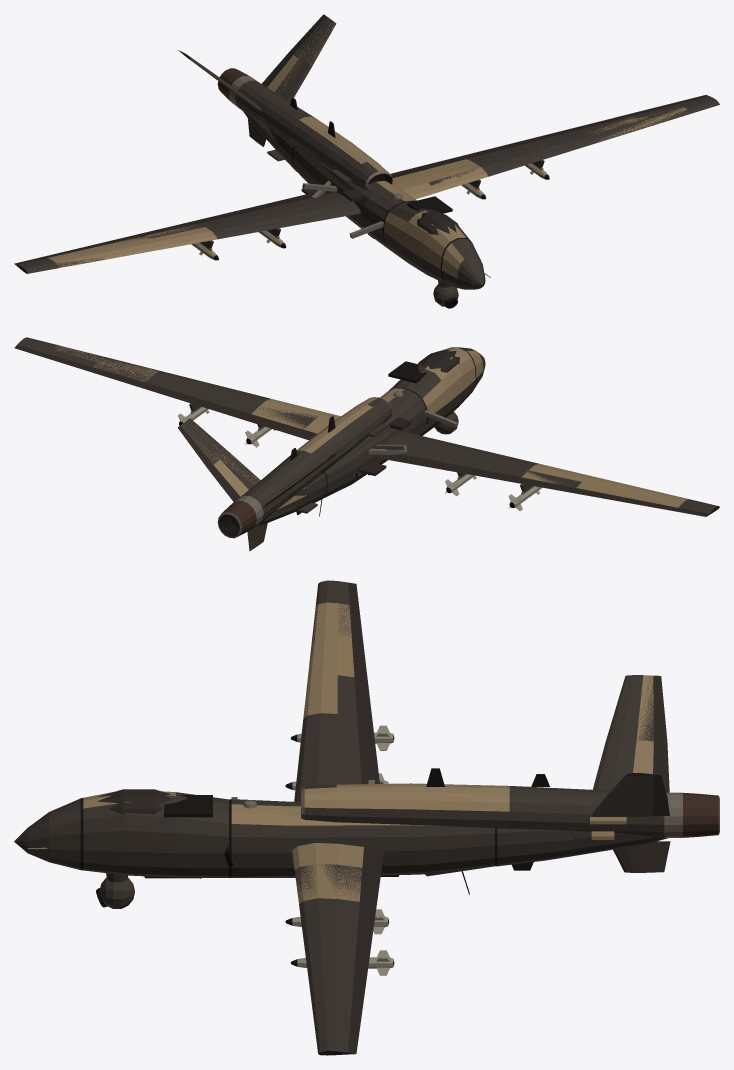
The model's file is dronejet.glb.
3 renders of one model, top to bottom at view 1: azimuth 30°, elevation 25°; view 2: azimuth 150°, elevation 25°; view 3: azimuth 270°, elevation 25°, orthographic. The views are drawn at different scales.
Parts seen in each view (by area): view 1: Jet_Body, P_wingR, P_front, P_wingL, P_tail, P_nose, P_panel3; view 2: Jet_Body, P_wingR, P_front, P_wingL, P_tail, P_nose, P_panel3; view 3: Jet_Body, P_tail, P_nose, P_wingR, P_wingL, P_front, P_rear, P_panel3.
Boxes of the visible parts, x1,y1,x2,y2 form: Jet_Body: (14, 14, 719, 307); P_wingR: (428, 96, 718, 199); P_front: (311, 141, 413, 242); P_wingL: (15, 196, 327, 273); P_tail: (178, 14, 335, 141); P_nose: (382, 215, 459, 308); P_panel3: (407, 196, 452, 213); Jet_Body: (14, 337, 719, 551); P_wingR: (15, 337, 317, 446); P_front: (297, 391, 427, 478); P_wingL: (405, 440, 718, 510); P_tail: (178, 424, 335, 550); P_nose: (396, 347, 484, 432); P_panel3: (388, 361, 427, 382); Jet_Body: (14, 580, 719, 1055); P_tail: (591, 675, 719, 872); P_nose: (23, 789, 233, 908); P_wingR: (292, 864, 393, 1054); P_wingL: (291, 580, 394, 796); P_front: (228, 784, 410, 877); P_rear: (422, 768, 574, 876); P_panel3: (164, 795, 212, 817).
Bounding box in the file's own units: 18 × 3.28 × 11.42.
